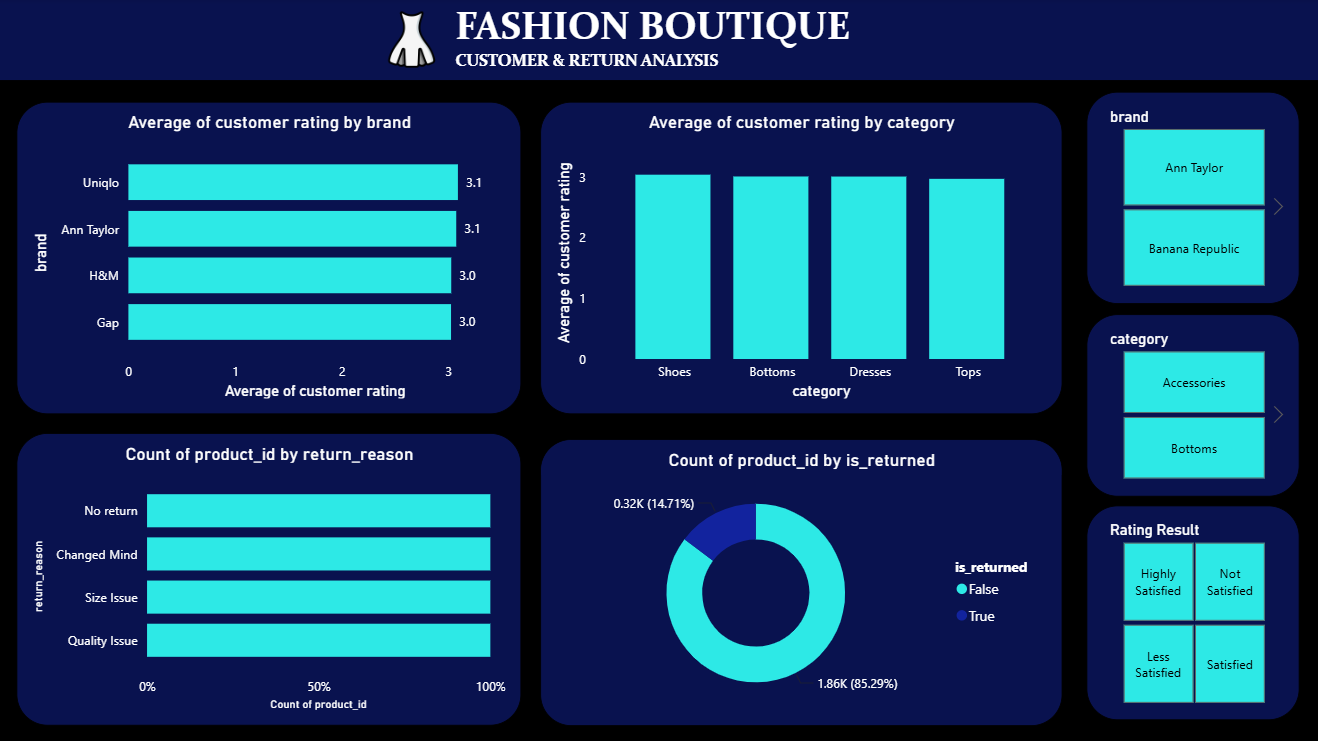

This screenshot's page, from the dashboard's own definition file:
{"tool":"powerbi","page":{"name":"CUSTOMER & RETURN ANALYSIS","canvas":[1280,720],"ordinal":2},"visuals":[{"type":"textbox","box":[0,0,1280.3,79.6],"z":0},{"type":"image","box":[366.4,12.3,72.7,54.9],"z":1000},{"type":"barChart","fields":{"Category":["Fashion_boutique.brand"],"Y":["Avg(Fashion_boutique.customer rating)"]},"box":[22,100.2,487.1,301.9],"z":2000},{"type":"columnChart","fields":{"Category":["Fashion_boutique.category"],"Y":["Avg(Fashion_boutique.customer rating)"]},"box":[526.9,100.2,503.6,301.9],"z":3000},{"type":"hundredPercentStackedBarChart","fields":{"Category":["Fashion_boutique.return_reason"],"Y":["CountNonNull(Fashion_boutique.product_id)"]},"box":[22,419.9,487.1,282.7],"z":4000},{"type":"donutChart","fields":{"Category":["Fashion_boutique.is_returned"],"Y":["CountNonNull(Fashion_boutique.product_id)"]},"box":[526.9,425.4,503.6,277.2],"z":5000},{"type":"slicer","fields":{"Values":["Fashion_boutique.brand"]},"box":[1053.9,90.6,205.8,204.5],"z":6000},{"type":"slicer","fields":{"Values":["Fashion_boutique.category"]},"box":[1053.9,304.6,205.8,175.6],"z":7000},{"type":"slicer","fields":{"Values":["Fashion_boutique.Rating Result"]},"box":[1053.9,489.9,205.8,207.2],"z":8000}]}

Visuals, with their boxes in screenshot pixels (x1, y1, x2, y2), scaled from the page's 1280x720 canvas onto the 1318x741 screenshot:
textbox: 0, 0, 1317, 82
image: 377, 13, 452, 69
barChart - Fashion_boutique.brand x Avg(Fashion_boutique.customer rating): 23, 103, 524, 414
columnChart - Fashion_boutique.category x Avg(Fashion_boutique.customer rating): 543, 103, 1061, 414
hundredPercentStackedBarChart - Fashion_boutique.return_reason x CountNonNull(Fashion_boutique.product_id): 23, 432, 524, 723
donutChart - Fashion_boutique.is_returned x CountNonNull(Fashion_boutique.product_id): 543, 438, 1061, 723
slicer - Fashion_boutique.brand: 1085, 93, 1297, 304
slicer - Fashion_boutique.category: 1085, 313, 1297, 494
slicer - Fashion_boutique.Rating Result: 1085, 504, 1297, 717
